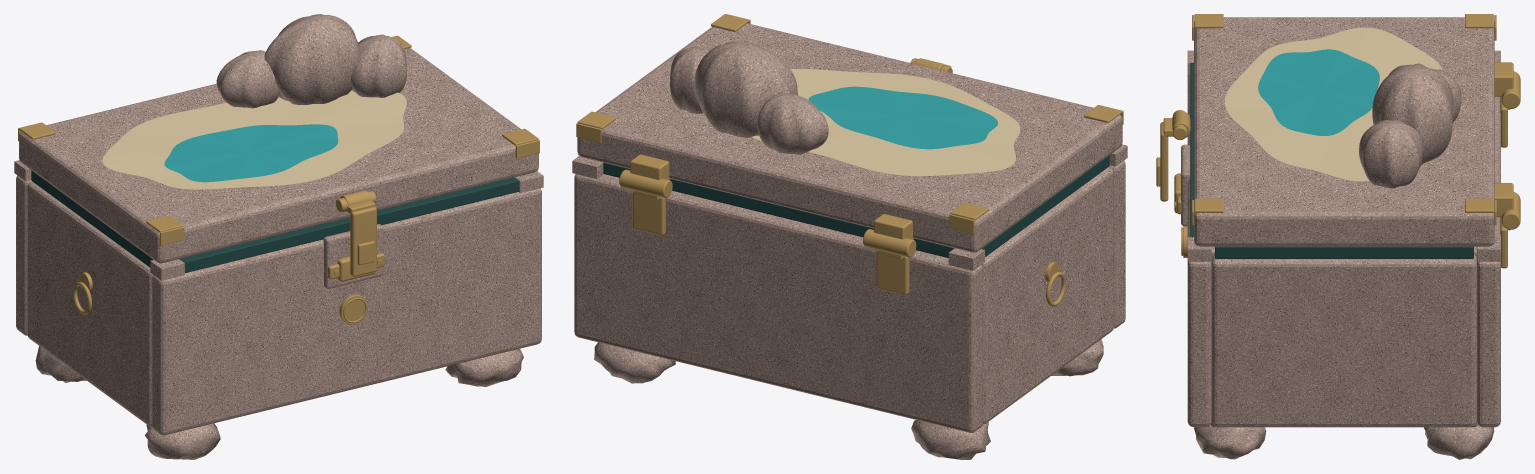
Rendered from seychelles.glb.
The picture shows the model from 3 angles, left to right: view 1: azimuth 30°, elevation 25°; view 2: azimuth 150°, elevation 25°; view 3: azimuth 270°, elevation 25°; orthographic projection. The views are drawn at different scales.
Visible parts, largest first — view 1: Granite / front, Lid / polished slab, Granite / side, Terrain / sand crescent, Terrain / lagoon inlay, Terrain / granite boulder A, Mineral seam / long, Terrain / granite boulder B, Terrain / granite boulder C, Granite foot, Granite foot.002, Granite / rear (+6 smaller); view 2: Granite / rear, Lid / polished slab, Granite / side, Terrain / sand crescent, Terrain / lagoon inlay, Terrain / granite boulder A, Terrain / granite boulder C, Mineral seam / long.001, Granite foot.001, Granite foot.003, Granite / front, Terrain / granite boulder B (+10 smaller); view 3: Granite / side.001, Lid / polished slab, Terrain / sand crescent, Terrain / lagoon inlay, Terrain / granite boulder A, Granite / rear, Granite / front, Terrain / granite boulder B, Mineral seam / side.001, Granite foot.002, Granite foot.003, Granite / clasp seat (+13 smaller).
Part boxes in pixels (bbox=[...]): Granite / front: bbox=[152, 188, 541, 435]; Lid / polished slab: bbox=[19, 48, 538, 263]; Granite / side: bbox=[27, 181, 152, 426]; Terrain / sand crescent: bbox=[102, 90, 406, 189]; Terrain / lagoon inlay: bbox=[164, 124, 338, 182]; Terrain / granite boulder A: bbox=[264, 14, 359, 104]; Mineral seam / long: bbox=[179, 177, 518, 272]; Terrain / granite boulder B: bbox=[351, 34, 406, 97]; Terrain / granite boulder C: bbox=[216, 50, 279, 108]; Granite foot: bbox=[145, 423, 220, 459]; Granite foot.002: bbox=[445, 349, 523, 387]; Granite / rear: bbox=[16, 175, 31, 335]; Granite / rear: bbox=[574, 174, 982, 432]; Lid / polished slab: bbox=[577, 23, 1122, 252]; Granite / side: bbox=[982, 167, 1113, 424]; Terrain / sand crescent: bbox=[752, 69, 1020, 176]; Terrain / lagoon inlay: bbox=[808, 86, 997, 149]; Terrain / granite boulder A: bbox=[694, 41, 797, 137]; Terrain / granite boulder C: bbox=[757, 93, 828, 154]; Mineral seam / long.001: bbox=[603, 162, 954, 257]; Granite foot.001: bbox=[911, 420, 990, 459]; Granite foot.003: bbox=[594, 342, 675, 383]; Granite / front: bbox=[1109, 160, 1125, 328]; Terrain / granite boulder B: bbox=[670, 46, 710, 113]; Granite / side.001: bbox=[1211, 254, 1476, 427]; Lid / polished slab: bbox=[1194, 17, 1494, 246]; Terrain / sand crescent: bbox=[1224, 27, 1442, 181]; Terrain / lagoon inlay: bbox=[1258, 49, 1379, 135]; Terrain / granite boulder A: bbox=[1372, 63, 1453, 164]; Granite / rear: bbox=[1477, 96, 1500, 427]; Granite / front: bbox=[1187, 75, 1211, 427]; Terrain / granite boulder B: bbox=[1359, 119, 1422, 188]; Mineral seam / side.001: bbox=[1215, 246, 1473, 258]; Granite foot.002: bbox=[1194, 425, 1266, 459]; Granite foot.003: bbox=[1424, 425, 1494, 459]; Granite / clasp seat: bbox=[1181, 144, 1190, 226].
Size of the model in its own units: 3.79 by 3 by 2.88.
5 materials, 1 textured.
